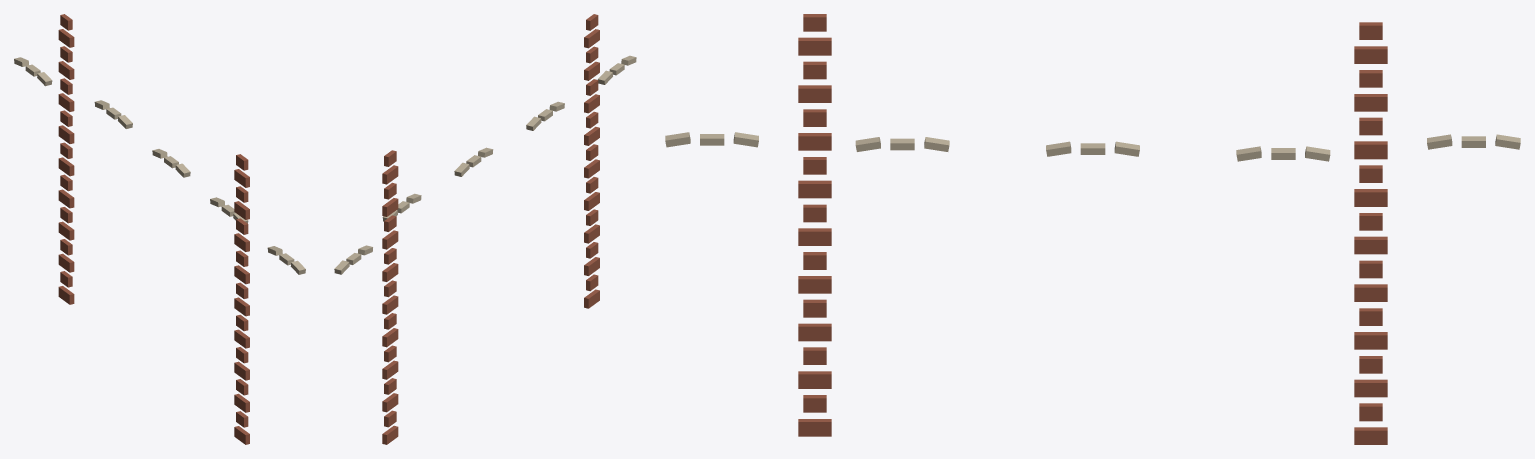
File: gerlinger-east-masonry-overlay-2026-11-10.glb
3 renders of one model, left to right at view 1: azimuth 30°, elevation 25°; view 2: azimuth 150°, elevation 25°; view 3: azimuth 270°, elevation 25°, orthographic. The views are drawn at different scales.
Parts seen in each view (by area): view 1: exterior-detail-building; view 2: exterior-detail-building; view 3: exterior-detail-building.
Boxes of the visible parts, <box> form: exterior-detail-building: <box>14,14,305,444</box>; exterior-detail-building: <box>334,14,636,444</box>; exterior-detail-building: <box>665,14,1520,444</box>.
Size of the model in its own units: 1.58 by 12.15 by 22.46.
